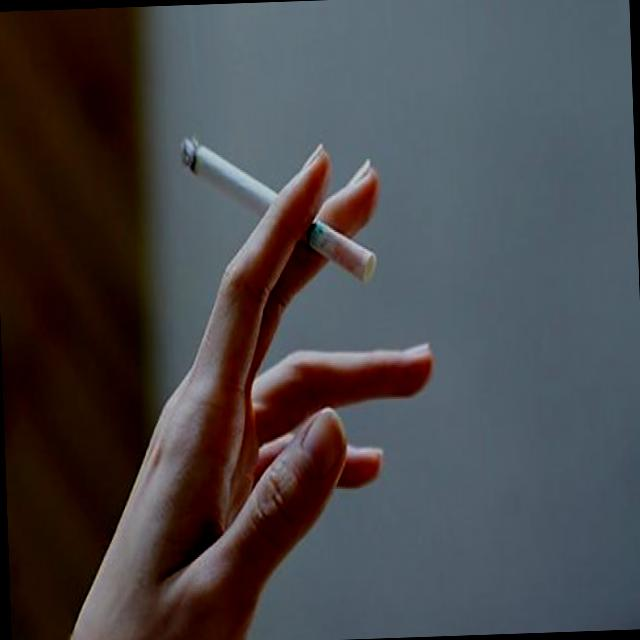cigarette: (176, 126, 272, 212)
